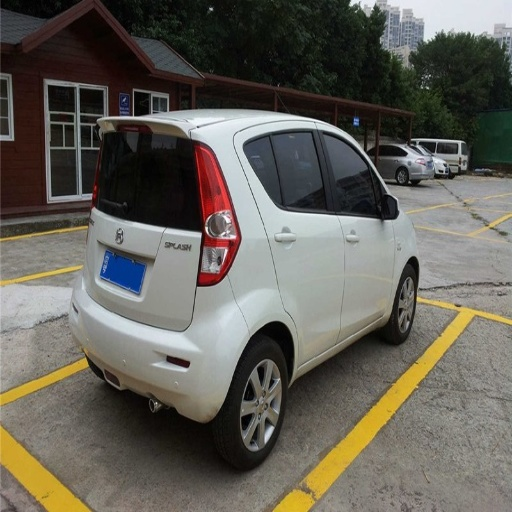back_bumper: (70, 274, 251, 421)
back_right_door: (251, 125, 342, 360)
